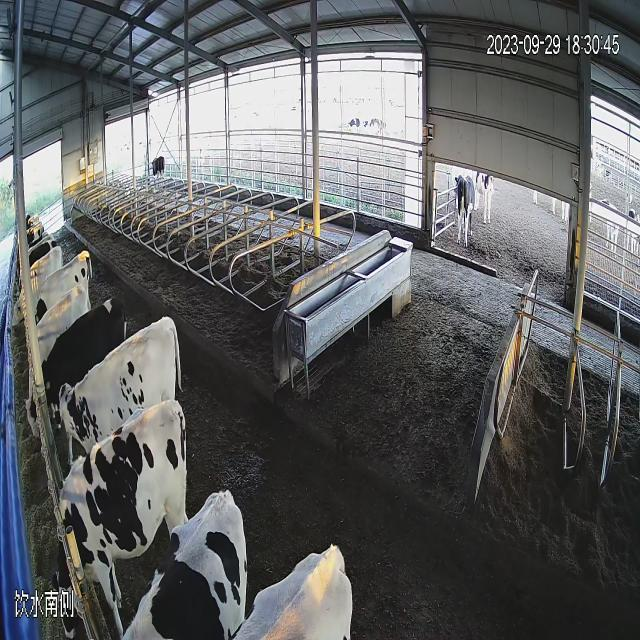feeding: (52, 396, 191, 640), (19, 276, 94, 452), (2, 242, 66, 339)
standing: (54, 307, 188, 454), (450, 158, 480, 246), (148, 143, 170, 194)
